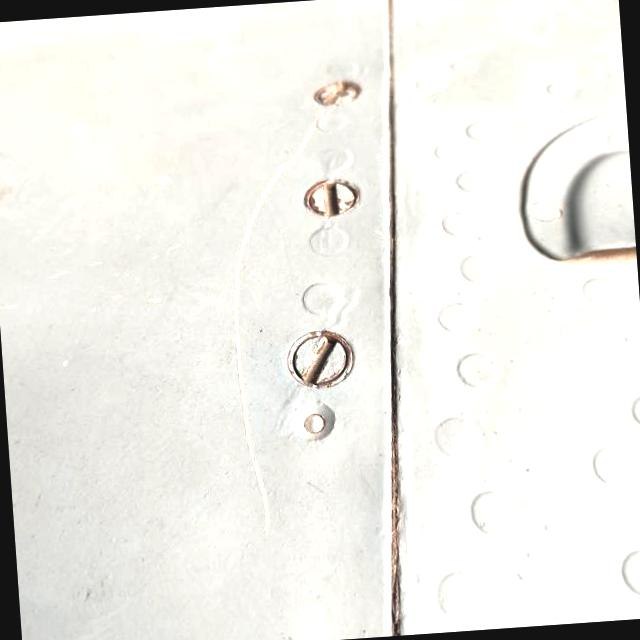scratch: (195, 98, 374, 551)
